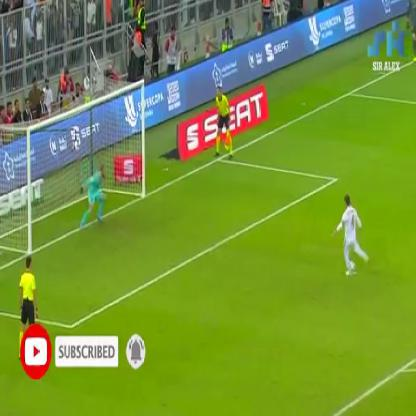penalty kick: (40, 86, 399, 305)
